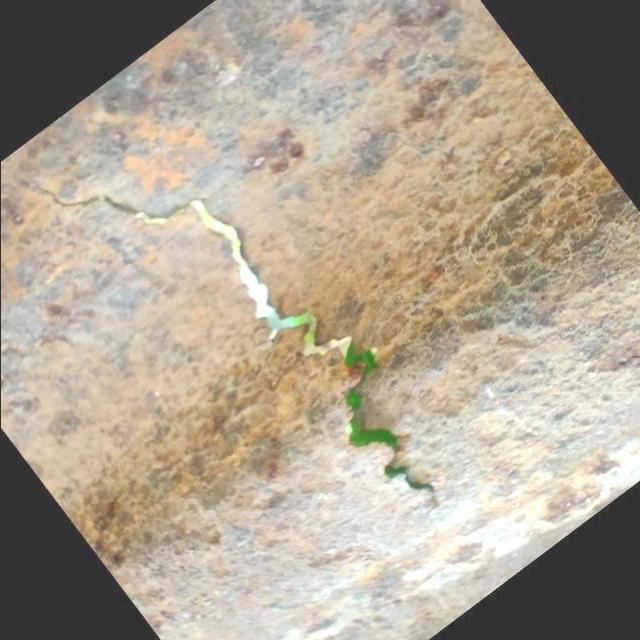defect: (14, 175, 437, 502)
